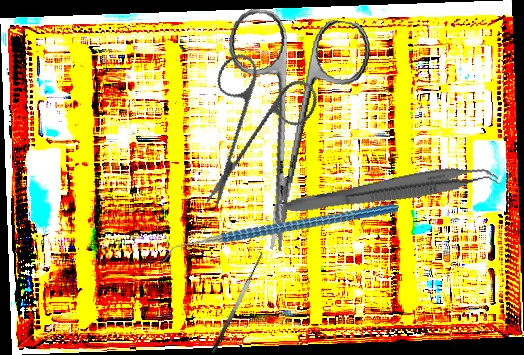Chopper: (160, 169, 399, 298)
Iris Scissors: (200, 5, 374, 260), (162, 34, 342, 211)
Spatula Surgical: (202, 248, 268, 355)
Tissue Forceps: (284, 157, 501, 227)
